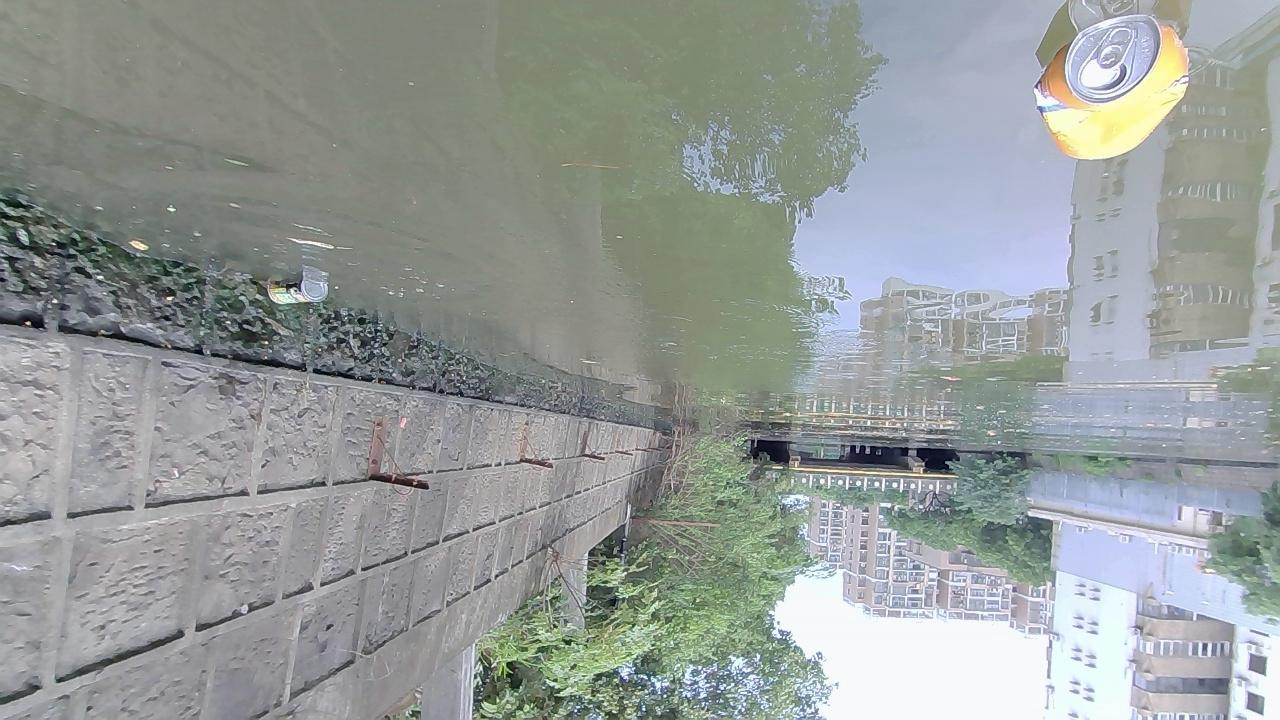Metal: (1031, 11, 1194, 163), (267, 278, 329, 305)
